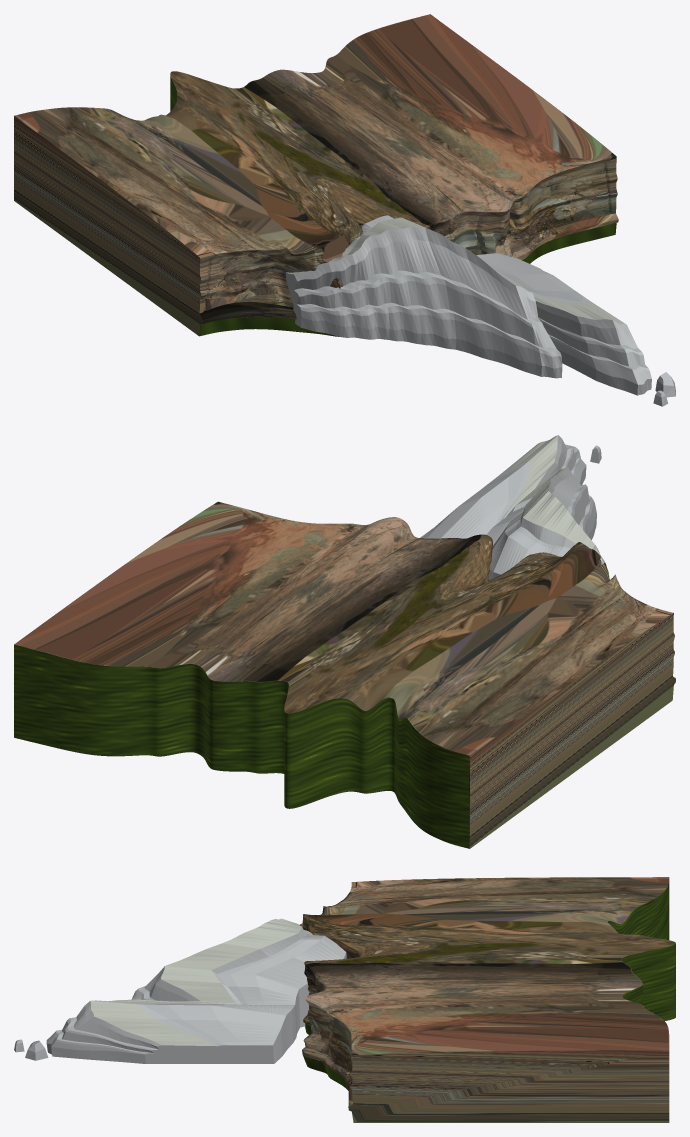
The model's file is cliff-v3d.glb.
3 views of the same model, one above another, from view 1: azimuth 30°, elevation 25°; view 2: azimuth 150°, elevation 25°; view 3: azimuth 270°, elevation 25° (orthographic). The views are drawn at different scales.
Visible parts, largest first — view 1: V3-D | integrated grassy headland and eroded bedrock; view 2: V3-D | integrated grassy headland and eroded bedrock; view 3: V3-D | integrated grassy headland and eroded bedrock.
Boxes of the visible parts, left/top/right/bottom form: V3-D | integrated grassy headland and eroded bedrock: left=14, top=14, right=651, bottom=395; V3-D | integrated grassy headland and eroded bedrock: left=14, top=435, right=675, bottom=848; V3-D | integrated grassy headland and eroded bedrock: left=46, top=877, right=675, bottom=1122.
Bounding box in the file's own units: 40 × 10.01 × 64.61.
8 materials, 2 textured.
